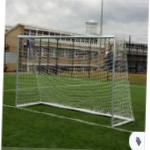goals: (15, 34, 136, 128)
